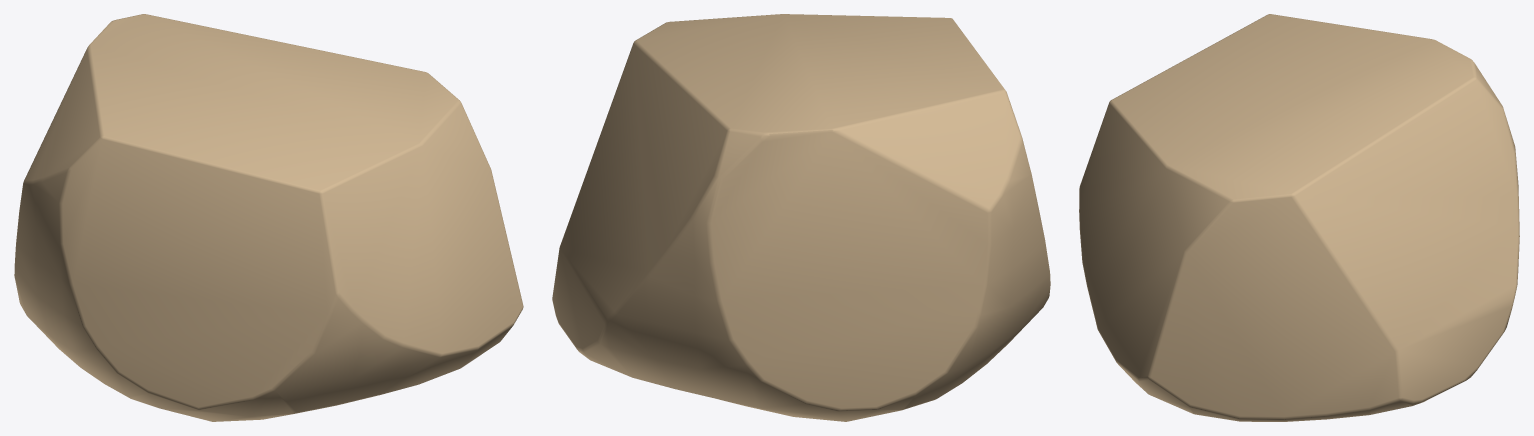
The model's file is rock_cobble_01.glb.
3 views of the same model, side by side, from view 1: azimuth 30°, elevation 25°; view 2: azimuth 150°, elevation 25°; view 3: azimuth 270°, elevation 25° (orthographic). The views are drawn at different scales.
Parts seen in each view (by area): view 1: rock_cobble_01; view 2: rock_cobble_01; view 3: rock_cobble_01.
Boxes of the visible parts, x1,y1,x2,y2 form: rock_cobble_01: (14,14,523,421); rock_cobble_01: (552,14,1050,421); rock_cobble_01: (1079,14,1519,421).
Size of the model in its own units: 2.46 by 1.78 by 2.5.
